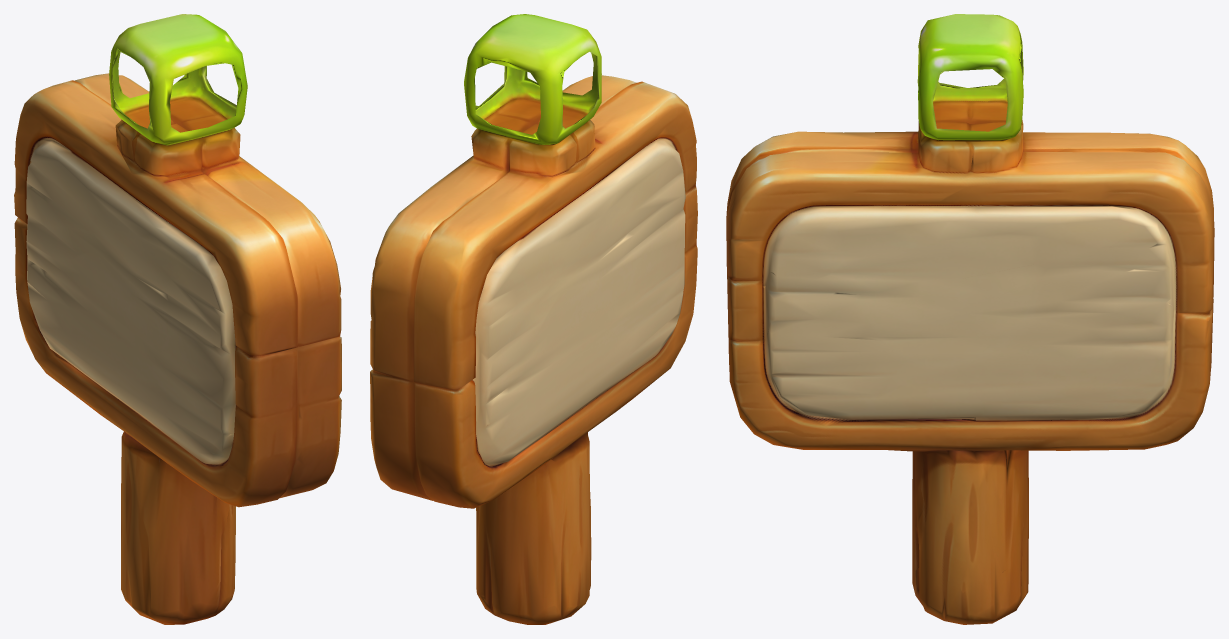
The model's file is Kit_M_SignPost_raw.glb.
The picture shows the model from 3 angles, left to right: view 1: azimuth 30°, elevation 25°; view 2: azimuth 150°, elevation 25°; view 3: azimuth 270°, elevation 25°; orthographic projection.
Visible parts, largest first — view 1: tripo_node_f9482ebb-c51b-4647-a316-077ab02a57c4; view 2: tripo_node_f9482ebb-c51b-4647-a316-077ab02a57c4; view 3: tripo_node_f9482ebb-c51b-4647-a316-077ab02a57c4.
Boxes of the visible parts, left/top/right/bottom form: tripo_node_f9482ebb-c51b-4647-a316-077ab02a57c4: left=14, top=14, right=341, bottom=624; tripo_node_f9482ebb-c51b-4647-a316-077ab02a57c4: left=370, top=14, right=697, bottom=624; tripo_node_f9482ebb-c51b-4647-a316-077ab02a57c4: left=726, top=14, right=1214, bottom=624.
Size of the model in its own units: 0.1987 by 1 by 0.7593.
Materials: 1 (1 with a texture image).
